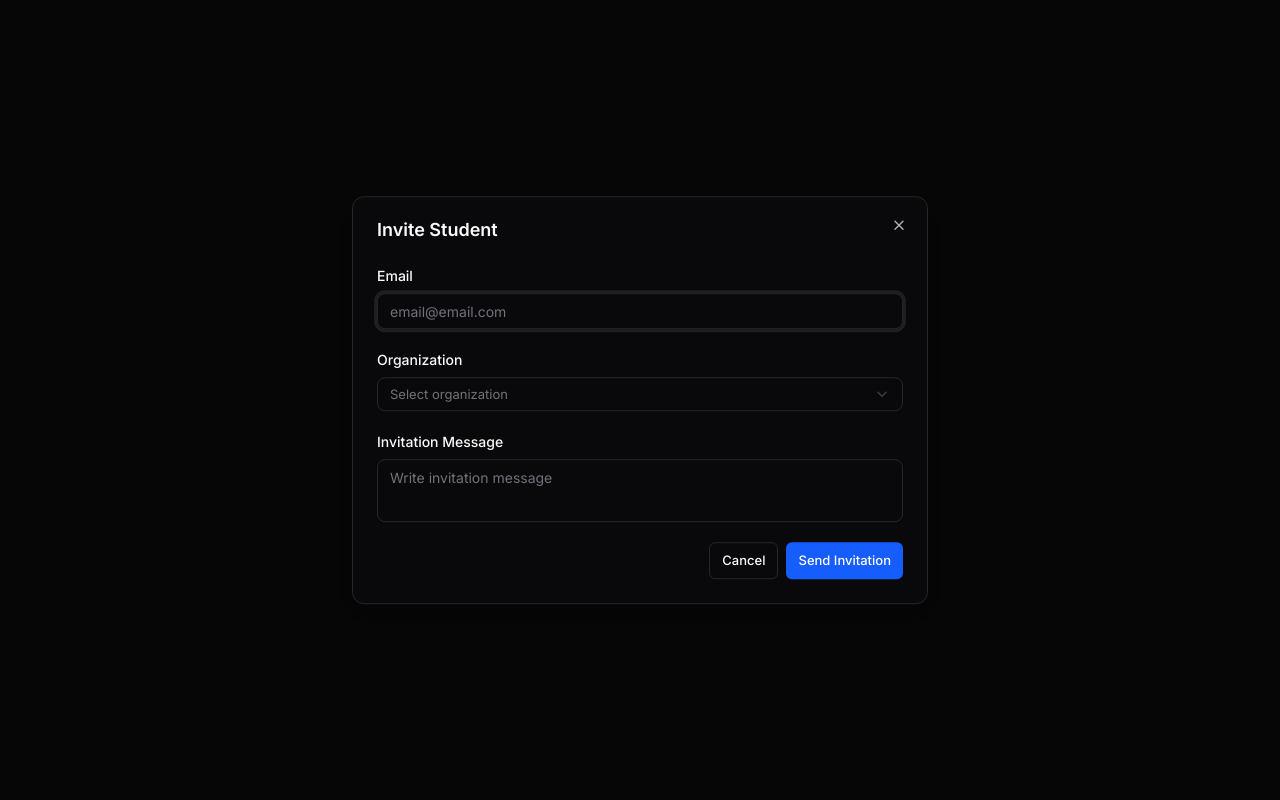
InviteStudentModal › Form Validation › displays validation errors when submitting empty form
Click the button "Send Invitation".
click(845, 560)  # box 786,542 -> 903,579
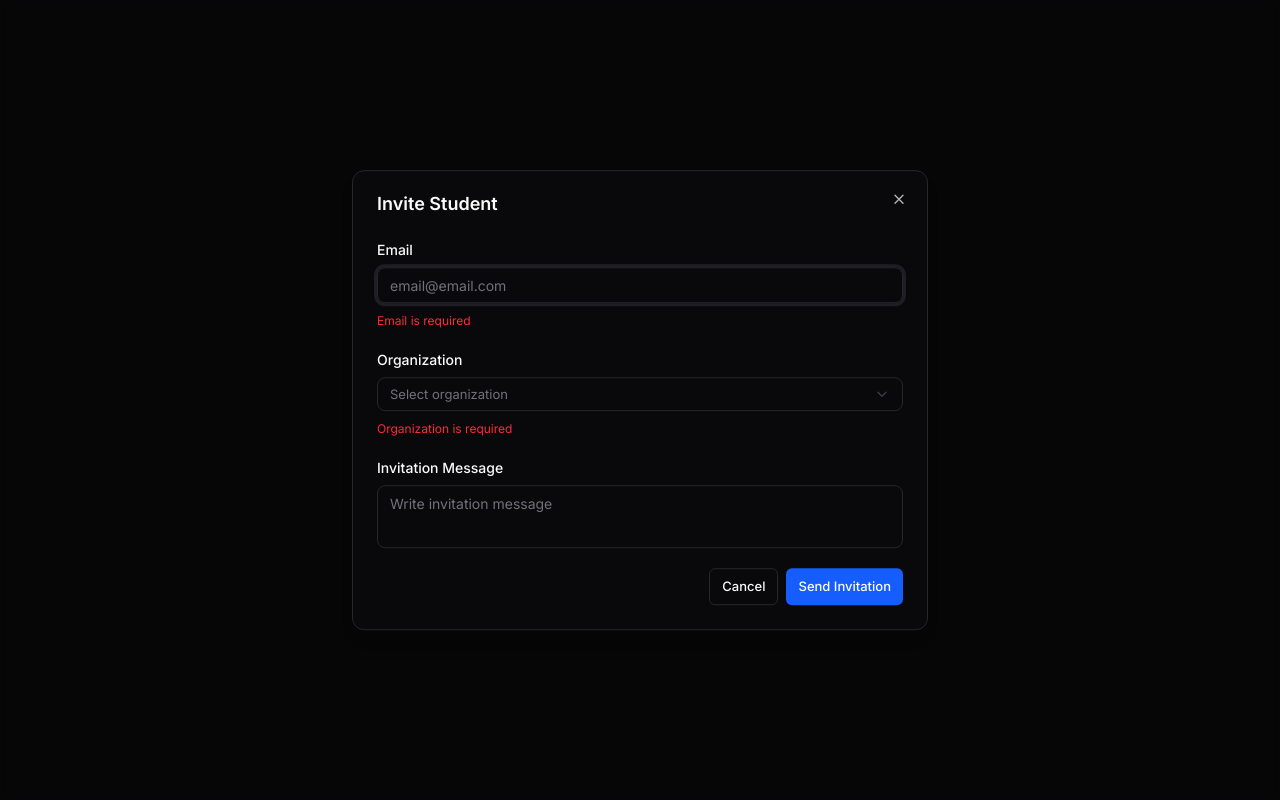
Expected: the text "Email is required" is shown, 377,313 -> 471,328
Expected: the text "Organization is required" is shown, 377,421 -> 512,436
